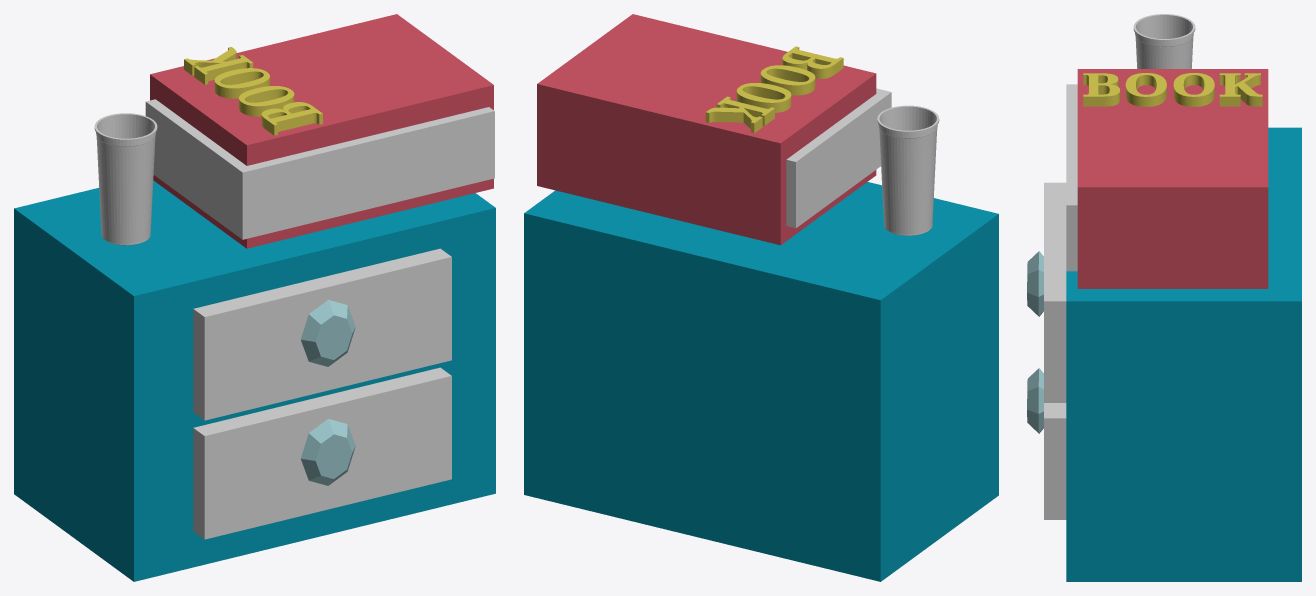
File: Frantic Kup.glb
The picture shows the model from 3 angles, left to right: view 1: azimuth 30°, elevation 25°; view 2: azimuth 150°, elevation 25°; view 3: azimuth 270°, elevation 25°; orthographic projection.
Visible parts, largest first — view 1: Mesh_Mesh_head_geo.001_lambert2SG.001; view 2: Mesh_Mesh_head_geo.001_lambert2SG.001; view 3: Mesh_Mesh_head_geo.001_lambert2SG.001.
Part boxes in pixels (x1=…): Mesh_Mesh_head_geo.001_lambert2SG.001: x1=14, y1=14, x2=495, y2=581; Mesh_Mesh_head_geo.001_lambert2SG.001: x1=524, y1=14, x2=998, y2=581; Mesh_Mesh_head_geo.001_lambert2SG.001: x1=1027, y1=14, x2=1301, y2=581.
Bounding box in the file's own units: 74 × 80 × 49.
